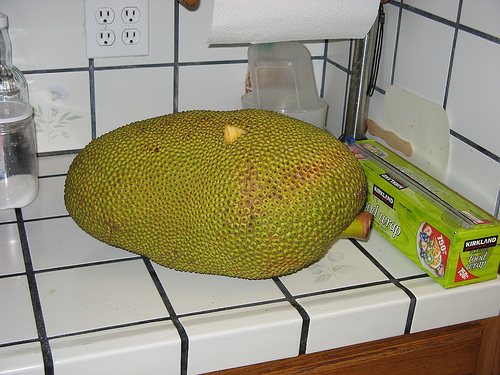jackfruit: (65, 110, 373, 281)
